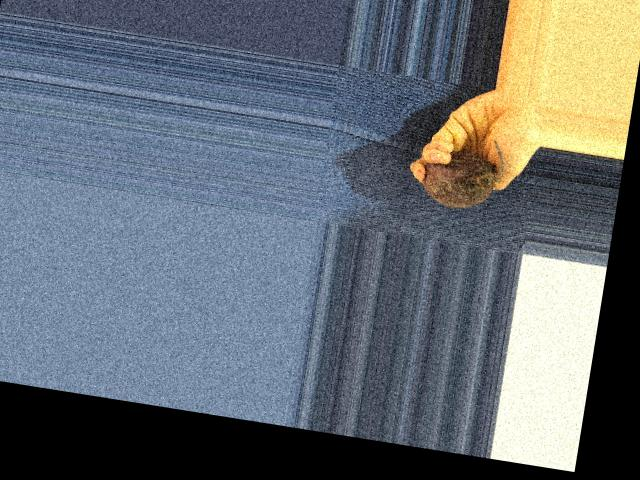beet: (419, 128, 508, 213)
